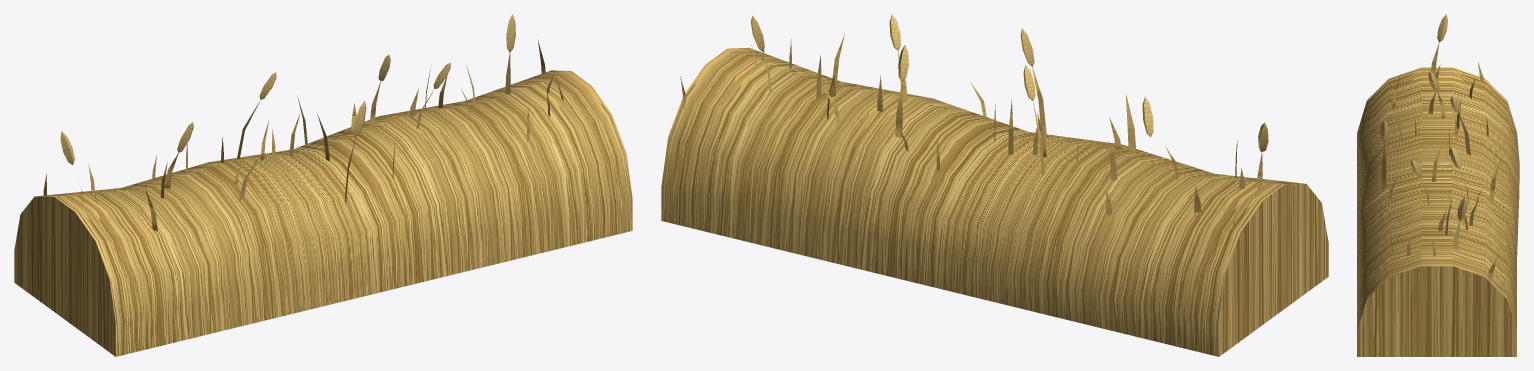
The model's file is SE_Crop_Wheat.glb.
3 views of the same model, side by side, from view 1: azimuth 30°, elevation 25°; view 2: azimuth 150°, elevation 25°; view 3: azimuth 270°, elevation 25° (orthographic). The views are drawn at different scales.
Parts seen in each view (by area): view 1: SE_Crop_Wheat; view 2: SE_Crop_Wheat; view 3: SE_Crop_Wheat.
Part boxes in pixels (bbox=[...]): SE_Crop_Wheat: bbox=[14, 14, 632, 356]; SE_Crop_Wheat: bbox=[661, 14, 1328, 356]; SE_Crop_Wheat: bbox=[1357, 14, 1519, 356].
Bounding box in the file's own units: 2 × 0.6918 × 0.6918.
1 material, 1 textured.
